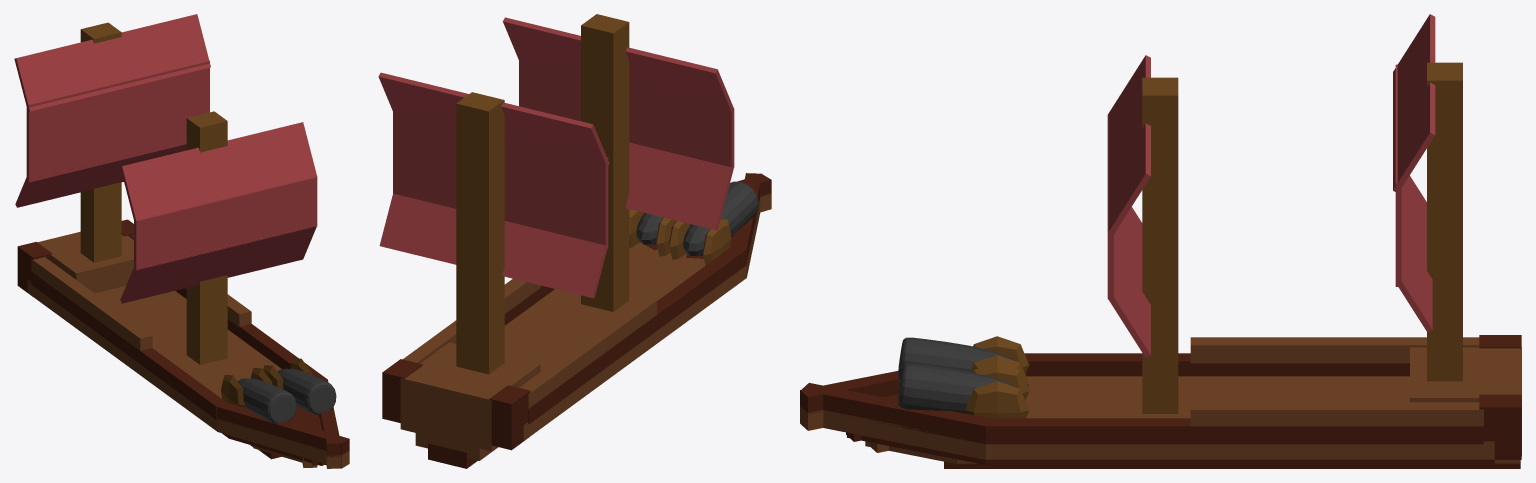
Rendered from EvilLevel2Boat.fbx.
3 views of the same model, side by side, from view 1: azimuth 30°, elevation 25°; view 2: azimuth 150°, elevation 25°; view 3: azimuth 270°, elevation 25° (orthographic). The views are drawn at different scales.
Parts seen in each view (by area): view 1: Cube.003, Cube.025, Cube.006, Cube.026, Cube.005, Cube.024, Cube.027, Cube.002, Cube.018, Cube.019, Cube.007, Cube.023 (+11 smaller); view 2: Cube.003, Cube.002, Cube.005, Cube.027, Cube.007, Cube.026, Cube.019, Cube.025, Cube.024, Cube.006, Cube.018, Cube.023 (+12 smaller); view 3: Cube.005, Cube.027, Cube.015, Cube.002, Cube.022, Cube.023, Cube.018, Cube.025, Cube.006, Cube.019, Cube.017, Cube.024 (+13 smaller).
Boxes of the visible parts, bbox=[...] form: Cube.003: bbox=[26, 60, 209, 182]; Cube.025: bbox=[120, 122, 317, 221]; Cube.006: bbox=[14, 14, 210, 111]; Cube.026: bbox=[134, 176, 317, 270]; Cube.005: bbox=[27, 279, 281, 430]; Cube.024: bbox=[120, 225, 317, 303]; Cube.027: bbox=[186, 111, 227, 364]; Cube.002: bbox=[80, 22, 121, 262]; Cube.018: bbox=[31, 271, 225, 419]; Cube.019: bbox=[37, 231, 133, 293]; Cube.007: bbox=[15, 140, 186, 207]; Cube.023: bbox=[31, 257, 152, 350]; Cube.003: bbox=[393, 112, 608, 248]; Cube.002: bbox=[456, 92, 504, 374]; Cube.005: bbox=[504, 242, 746, 440]; Cube.027: bbox=[581, 14, 629, 311]; Cube.007: bbox=[379, 193, 608, 298]; Cube.026: bbox=[519, 60, 734, 167]; Cube.019: bbox=[400, 342, 540, 451]; Cube.025: bbox=[503, 17, 733, 112]; Cube.024: bbox=[625, 142, 734, 230]; Cube.006: bbox=[378, 72, 609, 166]; Cube.018: bbox=[528, 247, 746, 424]; Cube.023: bbox=[519, 297, 656, 409]; Cube.005: bbox=[986, 376, 1494, 459]; Cube.027: bbox=[1142, 77, 1178, 413]; Cube.015: bbox=[986, 418, 1483, 444]; Cube.002: bbox=[1427, 62, 1462, 381]; Cube.022: bbox=[1190, 402, 1483, 427]; Cube.023: bbox=[1190, 337, 1479, 363]; Cube.018: bbox=[1024, 353, 1409, 376]; Cube.025: bbox=[1107, 55, 1150, 235]; Cube.006: bbox=[1393, 14, 1435, 192]; Cube.019: bbox=[1410, 347, 1521, 455]; Cube.017: bbox=[801, 383, 987, 444]; Cube.024: bbox=[1107, 207, 1150, 357].
Size of the model in its own units: 1100 by 1672 by 2829.
